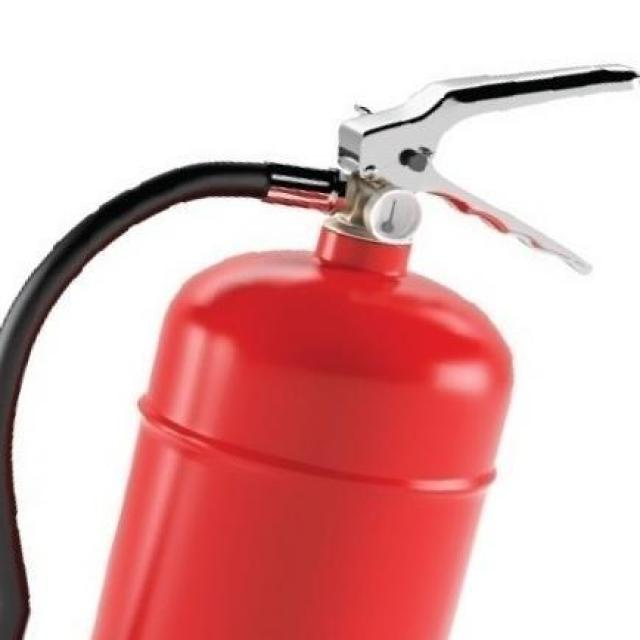fire_extinguisher: (0, 54, 639, 638)
